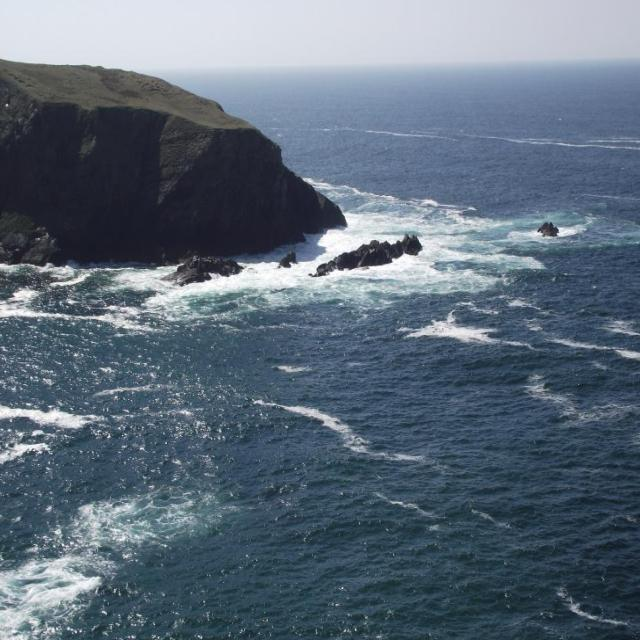island: (0, 48, 348, 266)
